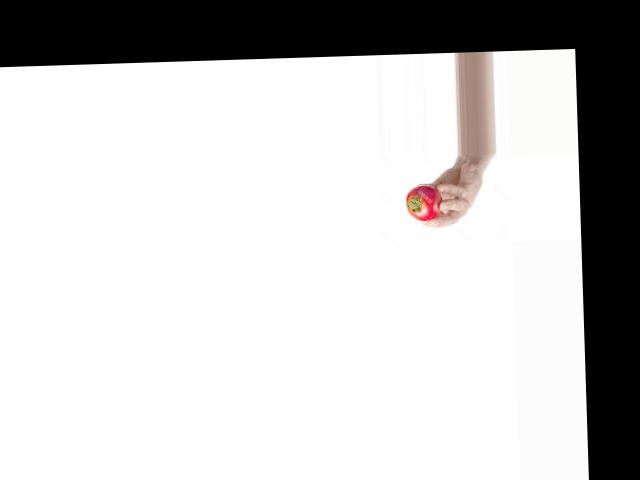tomato: (405, 184, 442, 221)
